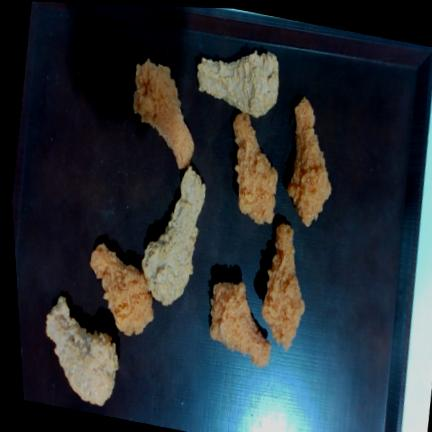chicken: (142, 166, 206, 306), (47, 296, 118, 405), (134, 59, 194, 168), (91, 244, 153, 335), (288, 97, 331, 226), (262, 223, 305, 350), (198, 50, 279, 117), (211, 282, 271, 366), (233, 113, 278, 224)
